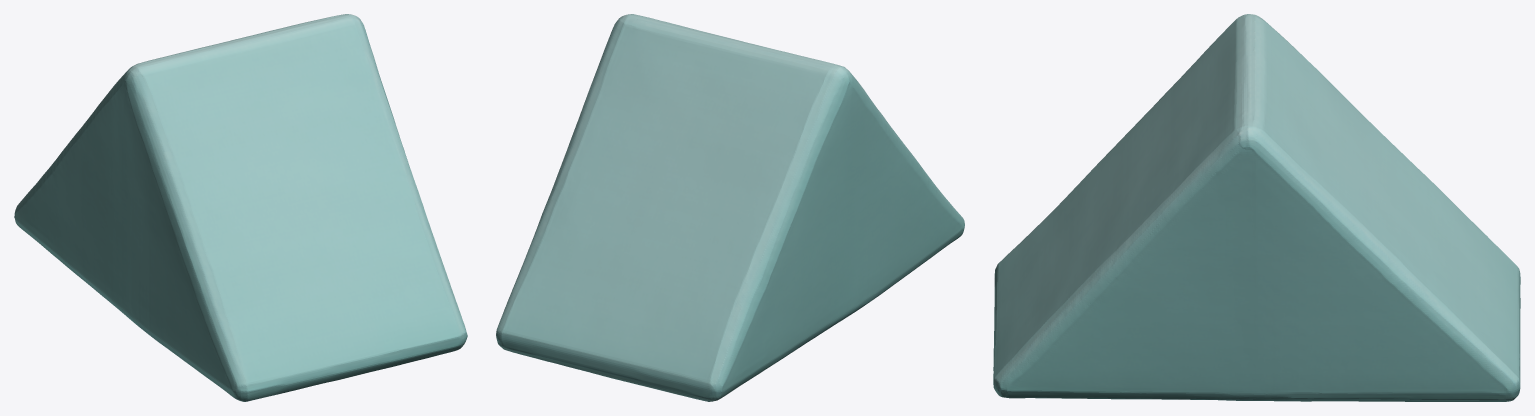
File: set2_obj3.glb
3 renders of one model, left to right at view 1: azimuth 30°, elevation 25°; view 2: azimuth 150°, elevation 25°; view 3: azimuth 270°, elevation 25°, orthographic. The views are drawn at different scales.
Parts seen in each view (by area): view 1: world; view 2: world; view 3: world.
Part boxes in pixels (x1=…): world: x1=14, y1=14, x2=467, y2=401; world: x1=496, y1=14, x2=964, y2=401; world: x1=993, y1=14, x2=1520, y2=401.
Size of the model in its own units: 0.5761 by 0.5798 by 0.9995.
